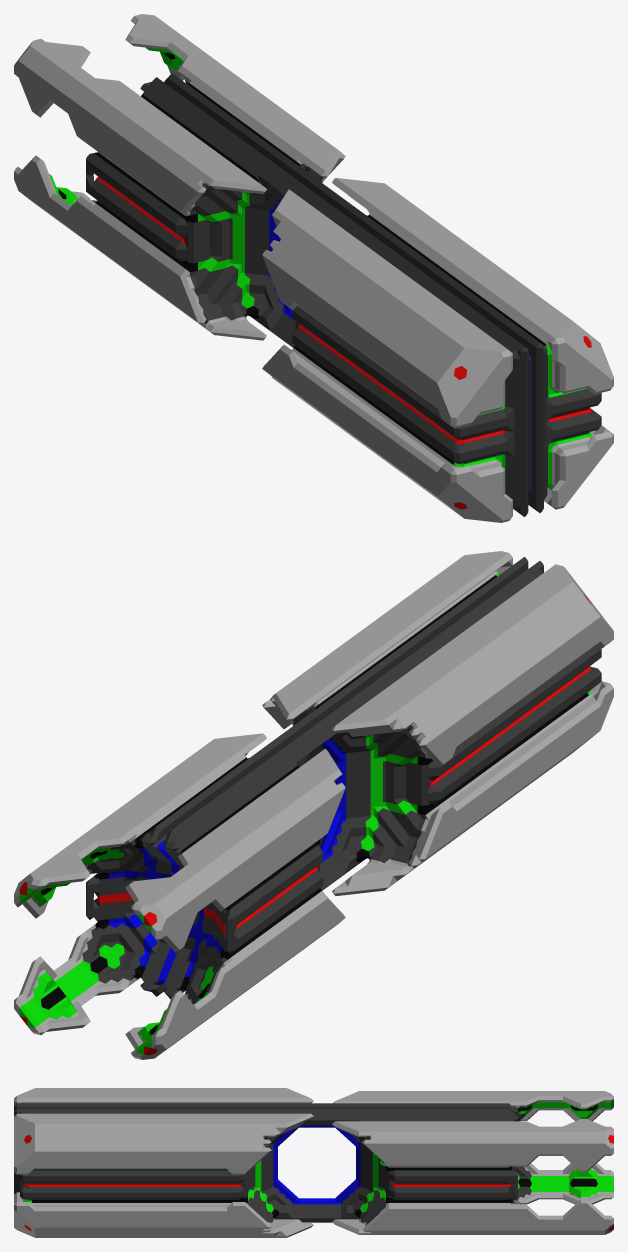
Rendered from ship_auron_bophose.fbx.
3 views of the same model, one above another, from view 1: azimuth 30°, elevation 25°; view 2: azimuth 150°, elevation 25°; view 3: azimuth 270°, elevation 25° (orthographic). The views are drawn at different scales.
Visible parts, largest first — view 1: ship_auron_bophose; view 2: ship_auron_bophose; view 3: ship_auron_bophose.
Boxes of the visible parts, x1,y1,x2,y2 form: ship_auron_bophose: [14, 14, 613, 522]; ship_auron_bophose: [14, 551, 613, 1059]; ship_auron_bophose: [14, 1088, 613, 1237].
Bounding box in the file's own units: 2100 × 2100 × 10000.
